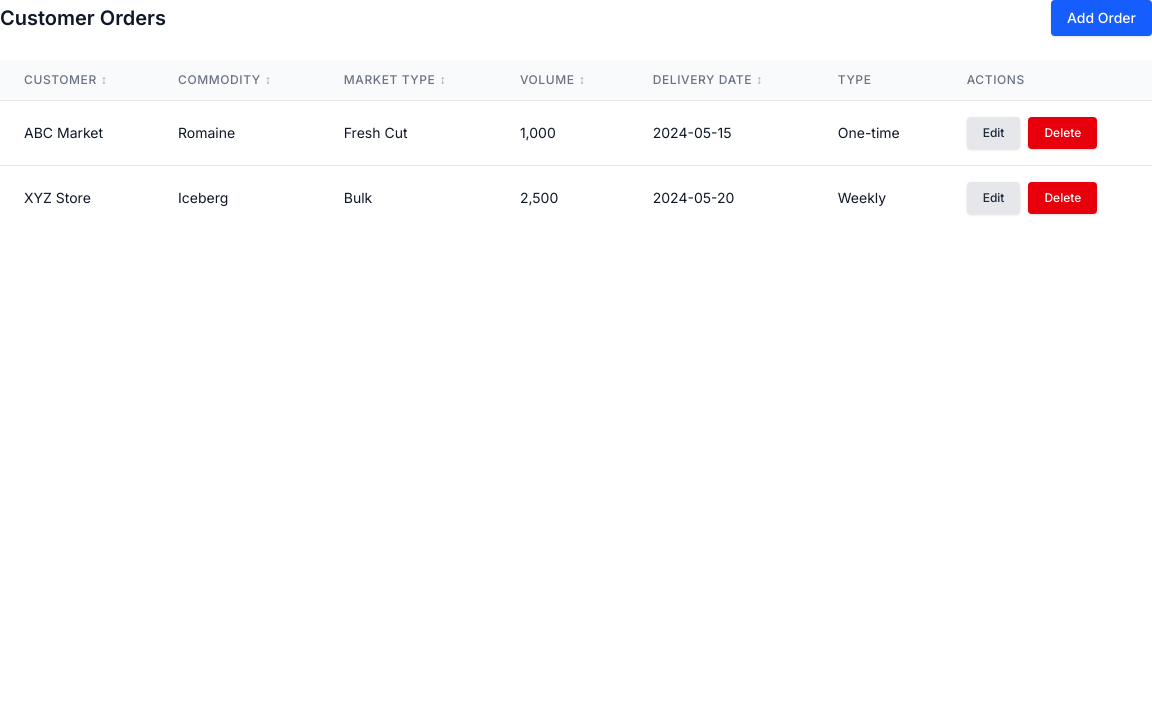
OrdersFeature Component › add order functionality › should render all form fields
Click the button "Add Order" at x=1102, y=18, box [1051, 0, 1151, 36]
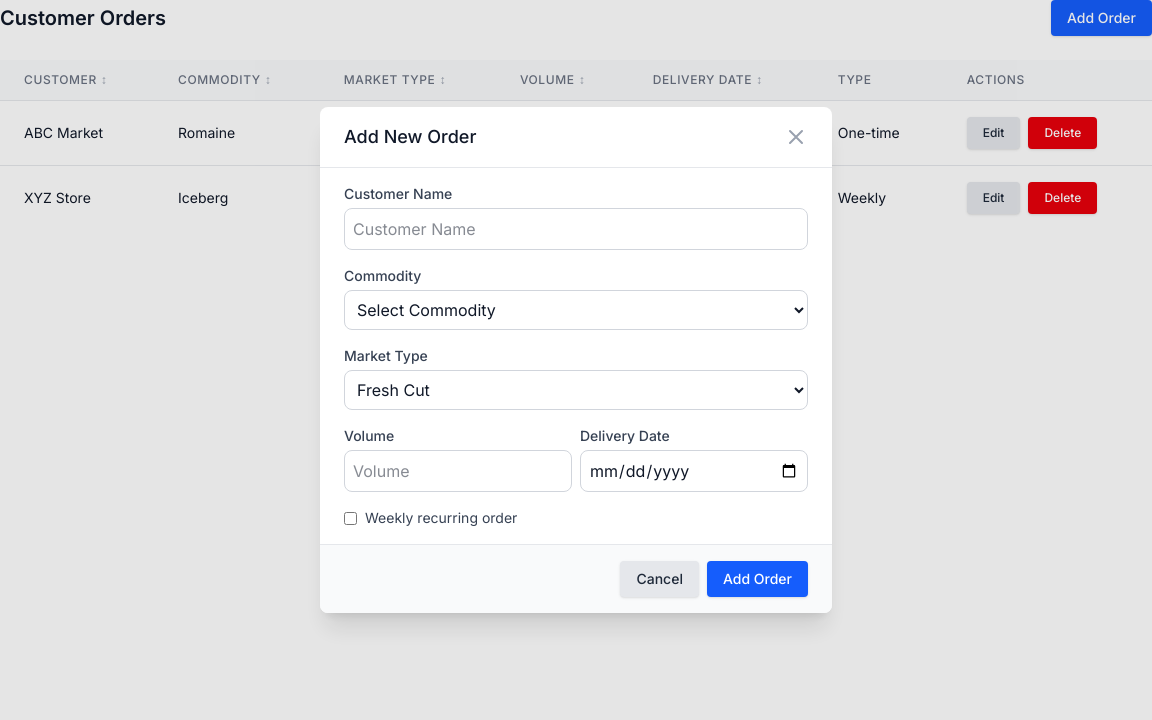
Expected: the field with placeholder "Customer Name" is shown, [344, 208, 808, 250]
Expected: the 1st dropdown showing "Select Commodity" is shown, [344, 290, 808, 330]
Expected: the 2nd dropdown showing "Fresh Cut" is shown, [344, 370, 808, 410]
